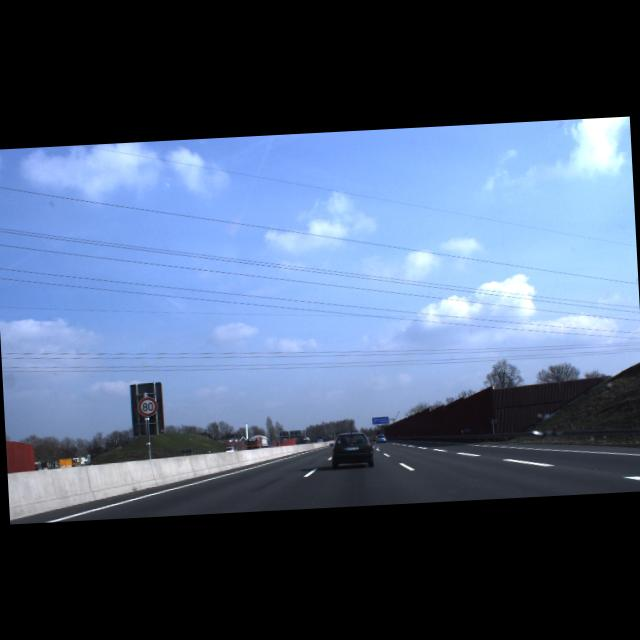prohibitory: (137, 396, 158, 416)
